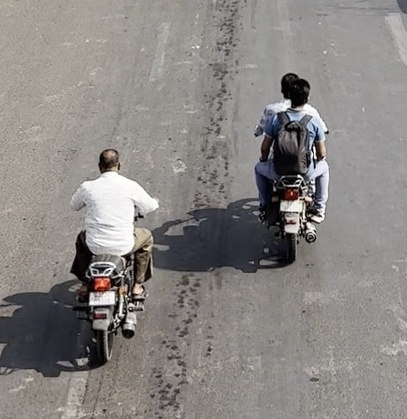BikeWithRider: (69, 146, 159, 364), (252, 68, 333, 267)
NoHelmet: (96, 147, 122, 177), (288, 77, 312, 109), (278, 70, 301, 100)
